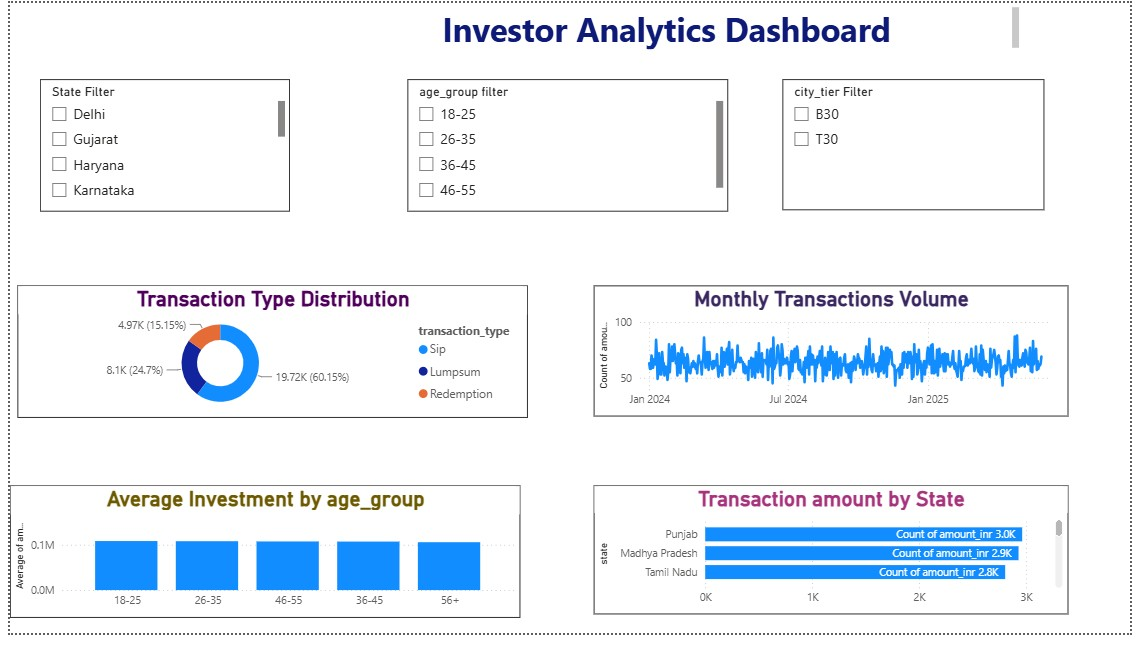

The page's visual inventory and layout, read from the dashboard file:
{"tool":"powerbi","page":{"name":"Invester Analytics","canvas":[1280,720],"ordinal":2},"visuals":[{"type":"textbox","box":[9.6,0,1148.5,57.6],"z":0},{"type":"clusteredBarChart","title":"Transaction amount by State","fields":{"Category":["08_investor_transactions_cleaned.state"],"Y":["CountNonNull(08_investor_transactions_cleaned.amount_inr)"]},"box":[666.9,551.6,542,146.8],"z":1000},{"type":"donutChart","title":" Transaction Type Distribution","fields":{"Category":["08_investor_transactions_cleaned.transaction_type"],"Y":["CountNonNull(08_investor_transactions_cleaned.amount_inr)"]},"box":[8.2,322.5,583.2,150.9],"z":2000},{"type":"clusteredColumnChart","title":"Average Investment  by age_group","fields":{"Category":["08_investor_transactions_cleaned.age_group"],"Y":["Avg(08_investor_transactions_cleaned.amount_inr)"]},"box":[0,551.6,583.2,150.9],"z":3000},{"type":"lineChart","title":"Monthly Transactions Volume","fields":{"Category":["08_investor_transactions_cleaned.transaction_date"],"Y":["CountNonNull(08_investor_transactions_cleaned.amount_inr)"]},"box":[666.9,322.5,542,149.6],"z":4000},{"type":"slicer","fields":{"Values":["08_investor_transactions_cleaned.state"]},"box":[34.3,86.4,285.4,150.9],"z":5000},{"type":"slicer","fields":{"Values":["08_investor_transactions_cleaned.age_group"]},"box":[454.2,86.4,366.4,150.9],"z":6000},{"type":"slicer","fields":{"Values":["08_investor_transactions_cleaned.city_tier"]},"box":[882.3,87.8,299.1,149.6],"z":7000}]}

Visuals, with their boxes in screenshot pixels (x1, y1, x2, y2), scaled from the page's 1280x720 canvas onto the 1137x647 screenshot:
textbox: BBox(9, 0, 1029, 52)
"Transaction amount by State" clusteredBarChart: BBox(592, 496, 1074, 628)
" Transaction Type Distribution" donutChart: BBox(7, 290, 525, 425)
"Average Investment  by age_group" clusteredColumnChart: BBox(0, 496, 518, 631)
"Monthly Transactions Volume" lineChart: BBox(592, 290, 1074, 424)
slicer - 08_investor_transactions_cleaned.state: BBox(30, 78, 284, 213)
slicer - 08_investor_transactions_cleaned.age_group: BBox(403, 78, 729, 213)
slicer - 08_investor_transactions_cleaned.city_tier: BBox(784, 79, 1049, 213)
